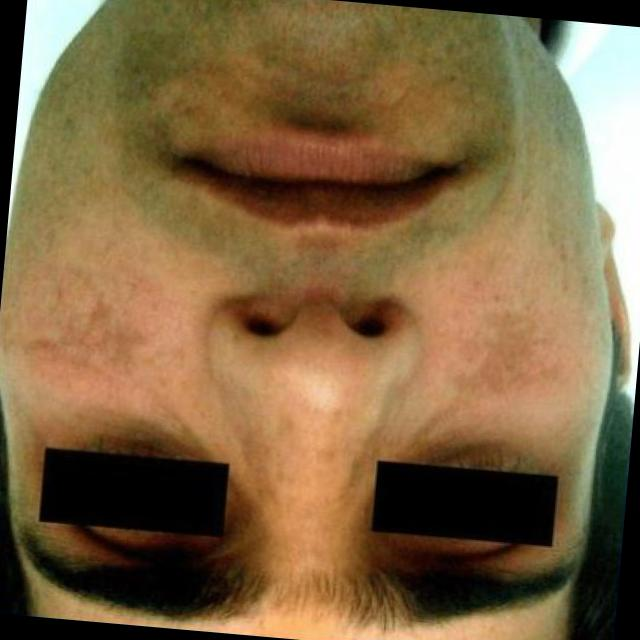melasma: (386, 143, 606, 459), (16, 217, 216, 413), (219, 351, 398, 560)
